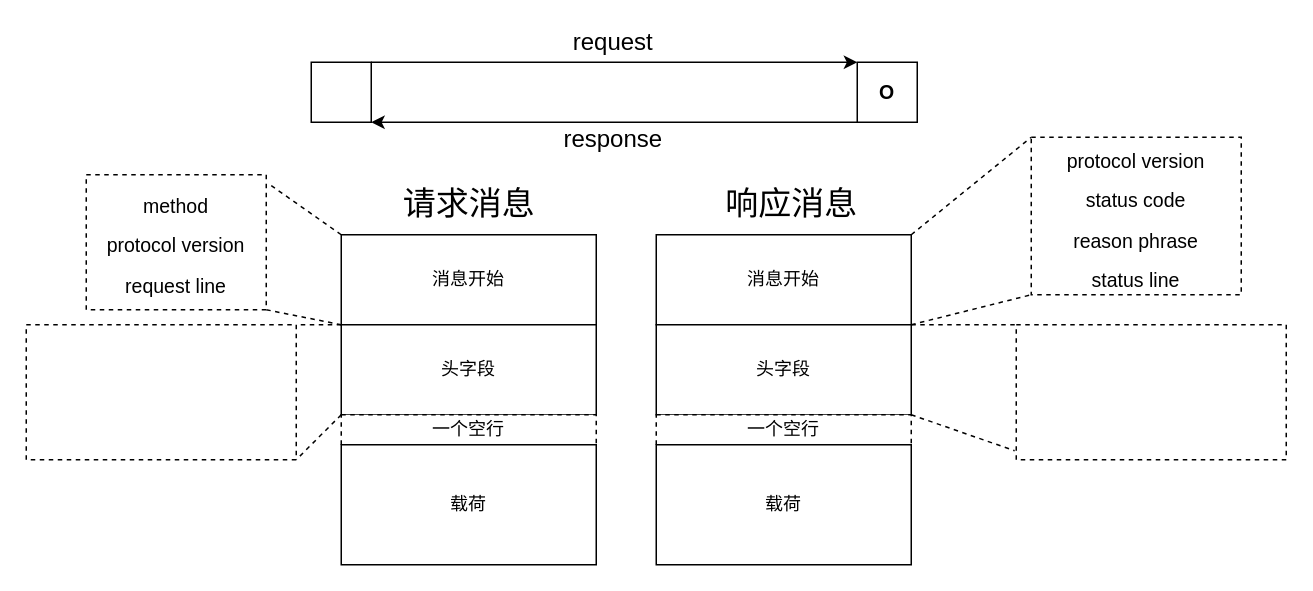
The diagram is 1313 pixels wide and 591 high, and some of its shapes have lost their labels. The centre of each missing label's shape, as x and y in pixels:
"request modifiers client information representation metadata" belongs at (x=160, y=391).
"server information resource metadata represetation metadata" belongs at (x=1150, y=391).
"UA" belongs at (x=340, y=91).
